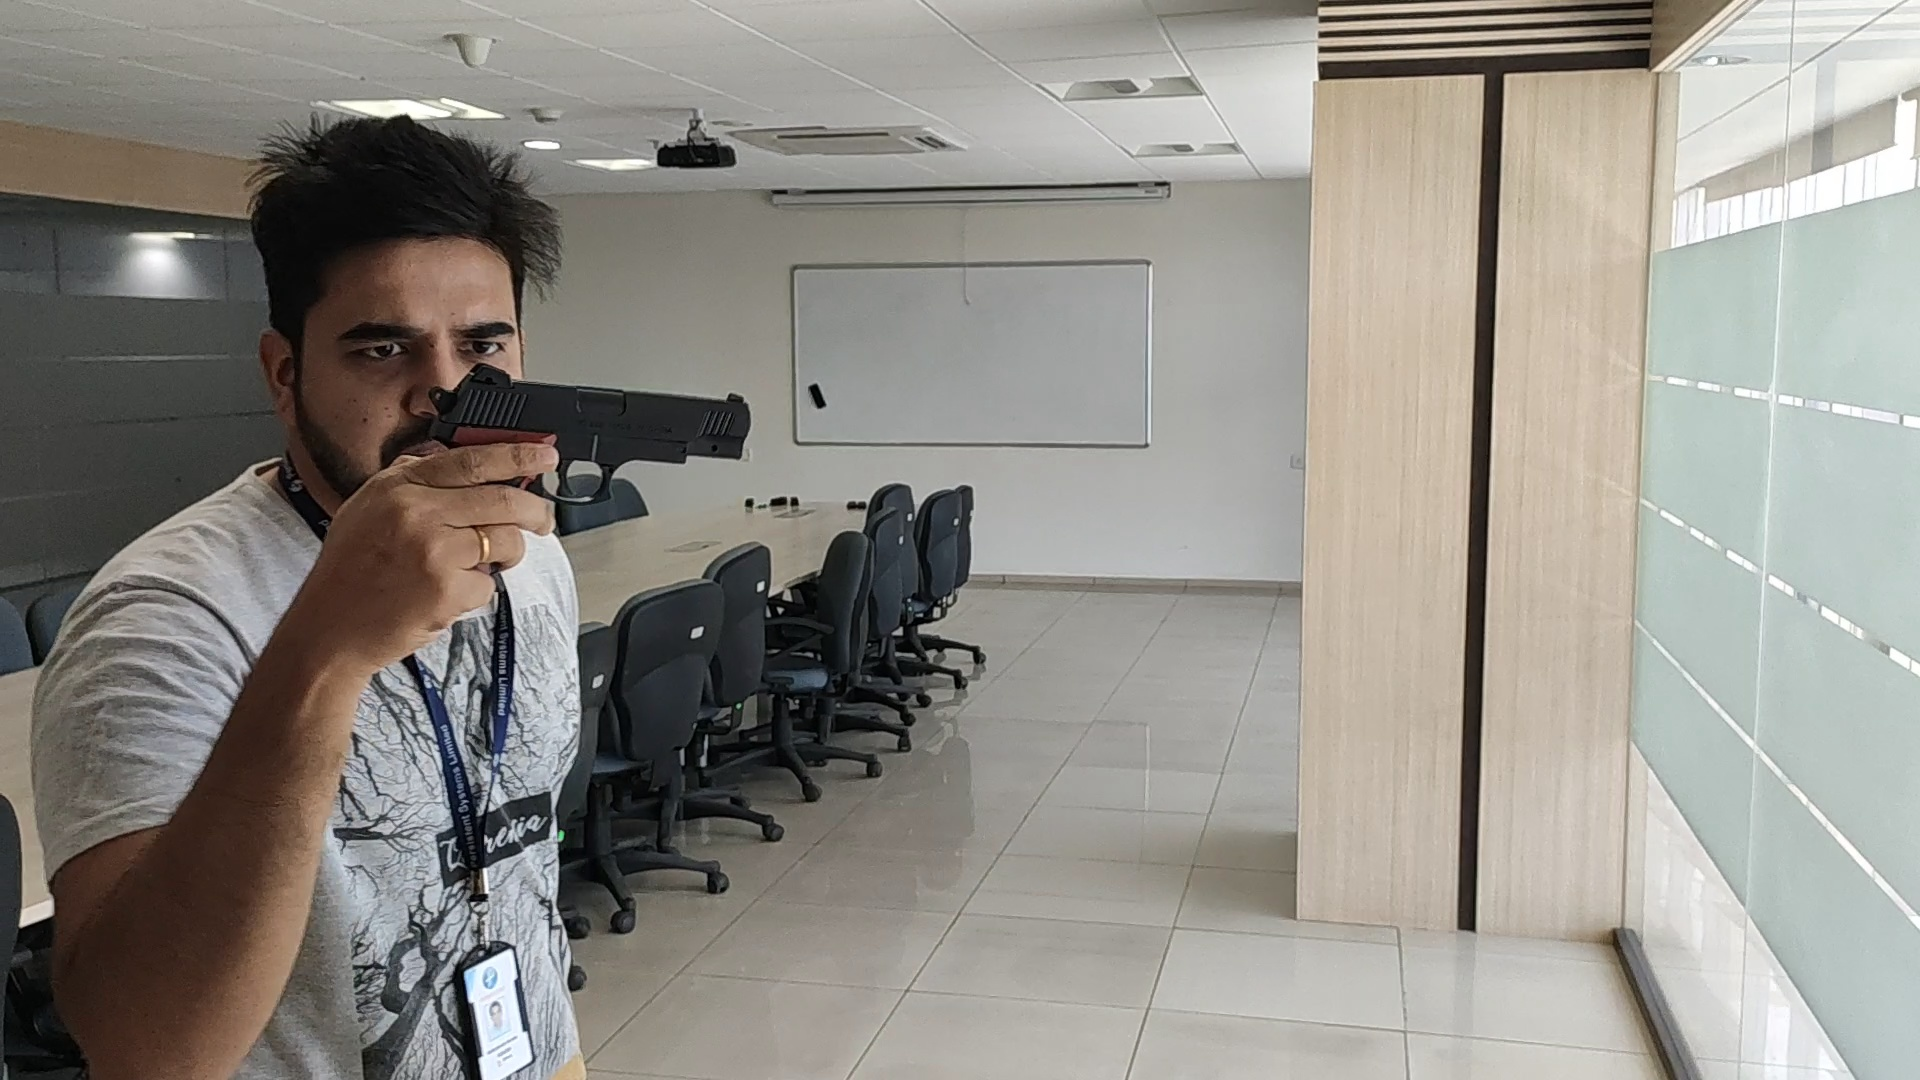gun: (426, 363, 750, 440)
